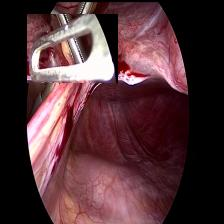Bipolar: (26, 13, 117, 82)
